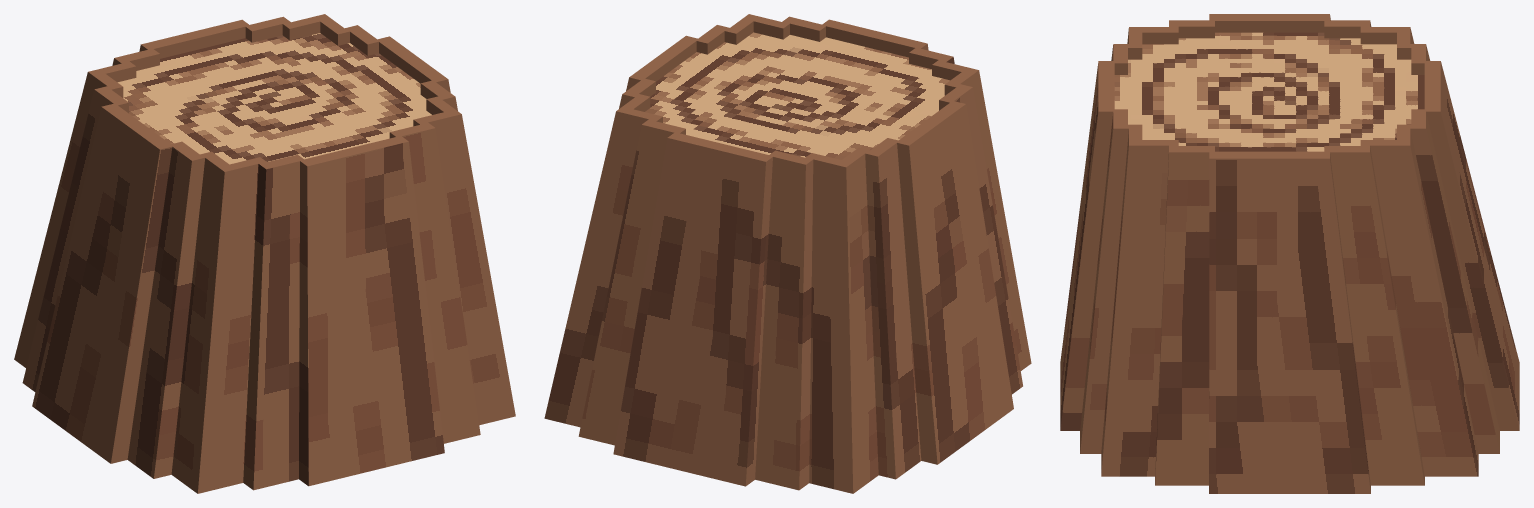
The model's file is TreeStump.fbx.
3 renders of one model, left to right at view 1: azimuth 30°, elevation 25°; view 2: azimuth 150°, elevation 25°; view 3: azimuth 270°, elevation 25°, orthographic. The views are drawn at different scales.
Parts seen in each view (by area): view 1: Tree_stump; view 2: Tree_stump; view 3: Tree_stump.
Boxes of the visible parts, bbox=[...] form: Tree_stump: bbox=[14, 14, 515, 493]; Tree_stump: bbox=[544, 14, 1031, 493]; Tree_stump: bbox=[1060, 14, 1519, 493].
Bounding box in the file's own units: 54.01 × 40.3 × 54.01.
Materials: 1 (1 with a texture image).
